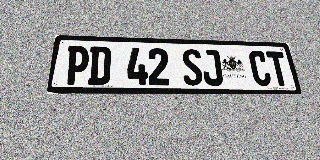2: (148, 48, 169, 85)
4: (127, 47, 148, 85)
C: (248, 51, 273, 86)
D: (87, 46, 111, 85)
J: (201, 49, 224, 86)
P: (64, 46, 90, 85)
S: (181, 49, 204, 86)
T: (266, 51, 291, 86)
